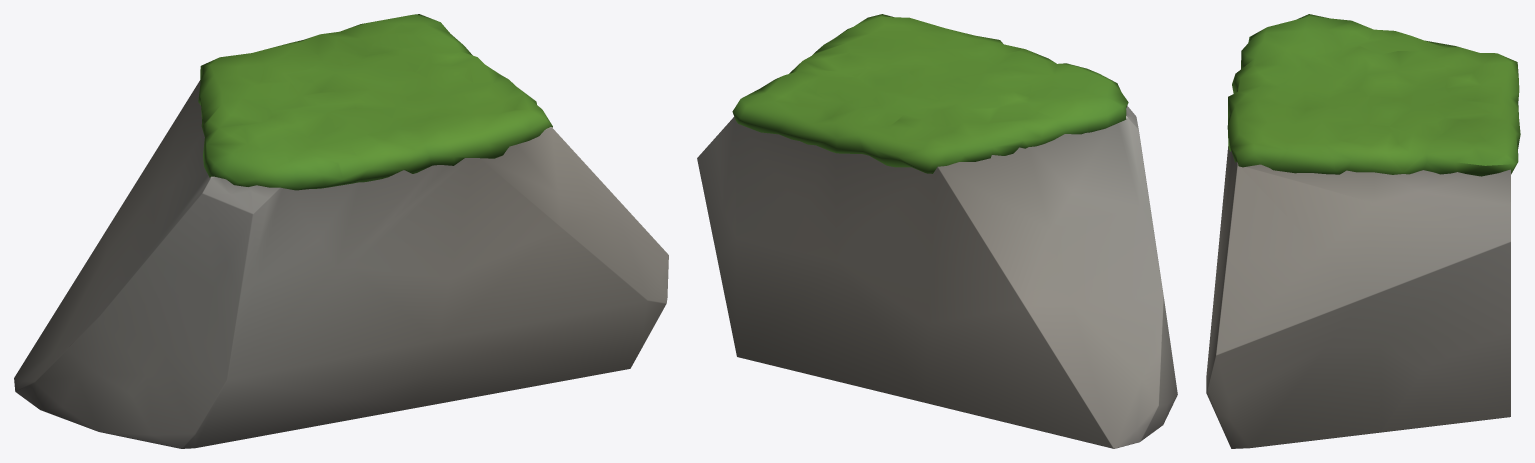
File: glade_pebble_boulder_d.glb
3 views of the same model, side by side, from view 1: azimuth 30°, elevation 25°; view 2: azimuth 150°, elevation 25°; view 3: azimuth 270°, elevation 25° (orthographic). The views are drawn at different scales.
Parts seen in each view (by area): view 1: glade_pebble_boulder_d, moss; view 2: glade_pebble_boulder_d, moss; view 3: glade_pebble_boulder_d, moss.
Boxes of the visible parts, left/top/right/bottom form: glade_pebble_boulder_d: left=14, top=80, right=668, bottom=448; moss: left=198, top=14, right=552, bottom=190; glade_pebble_boulder_d: left=697, top=106, right=1177, bottom=448; moss: left=732, top=14, right=1128, bottom=173; glade_pebble_boulder_d: left=1206, top=146, right=1510, bottom=448; moss: left=1227, top=14, right=1520, bottom=176.
Size of the model in its own units: 6.68 by 3.41 by 3.65.
